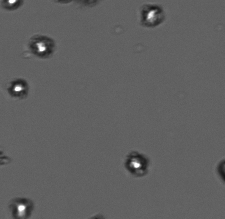Living Cell: (125, 150, 149, 176), (29, 34, 53, 58), (140, 4, 165, 27), (7, 77, 30, 97), (11, 197, 33, 216), (1, 1, 23, 9)
